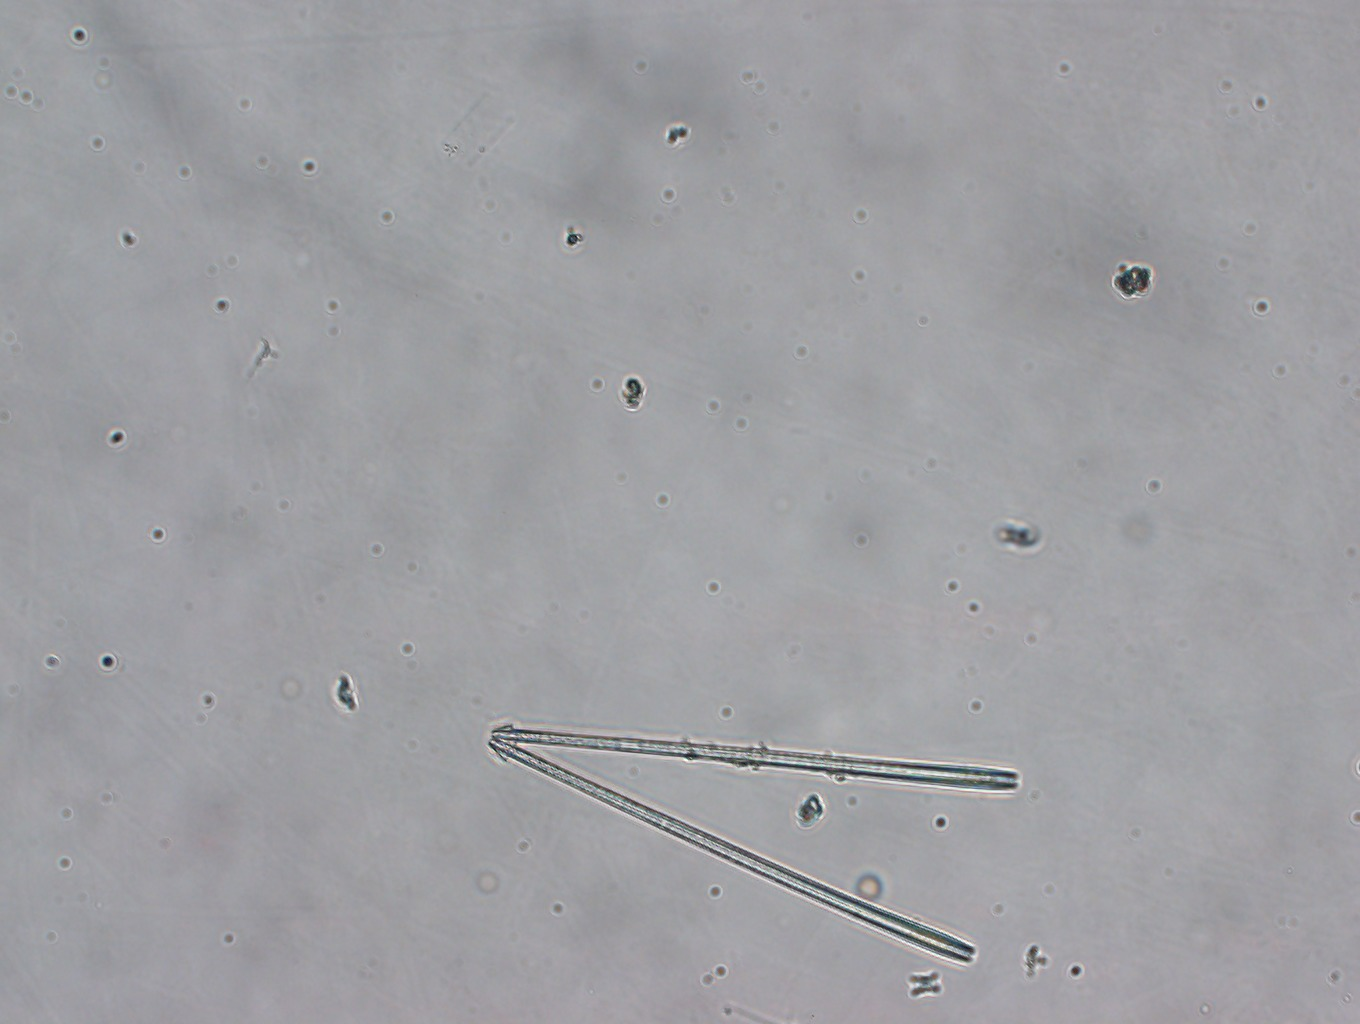thalassionema frauenfeldii: (489, 726, 1020, 963)
